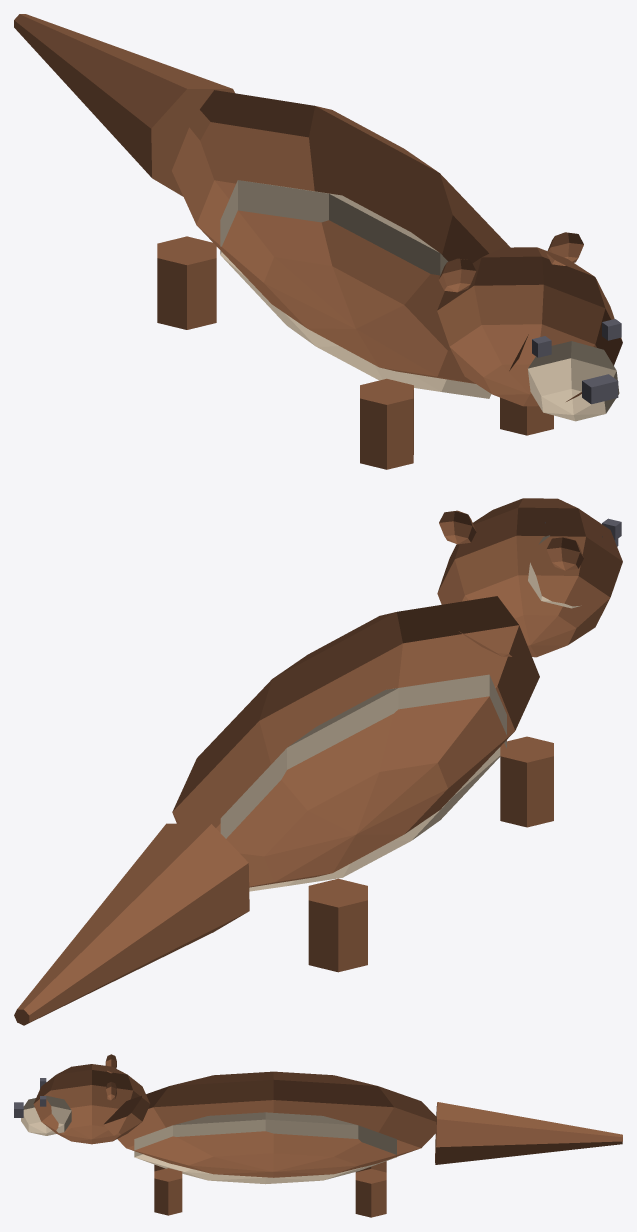
Rendered from otter.glb.
3 renders of one model, top to bottom at view 1: azimuth 30°, elevation 25°; view 2: azimuth 150°, elevation 25°; view 3: azimuth 270°, elevation 25°, orthographic. The views are drawn at different scales.
Parts seen in each view (by area): view 1: Body, Head, Tail, PawBR, PawFR, PawFL; view 2: Body, Head, Tail, PawBR, PawFR; view 3: Body, Head, Tail, PawBL, PawFL.
Boxes of the visible parts, <box> form: Body: <box>172,90,528,398</box>; Head: <box>437,232,622,421</box>; Tail: <box>14,14,234,196</box>; PawBR: <box>157,236,216,329</box>; PawFR: <box>360,378,413,469</box>; PawFL: <box>500,397,553,435</box>; Body: <box>172,596,539,891</box>; Head: <box>437,498,622,657</box>; Tail: <box>14,823,249,1025</box>; PawBR: <box>308,878,367,972</box>; PawFR: <box>500,736,553,827</box>; Body: <box>103,1071,436,1184</box>; Head: <box>14,1054,150,1144</box>; Tail: <box>435,1102,622,1164</box>; PawBL: <box>355,1169,386,1217</box>; PawFL: <box>154,1168,182,1215</box>.
Bounding box in the file's own units: 0.0624 × 0.0664 × 0.3.
